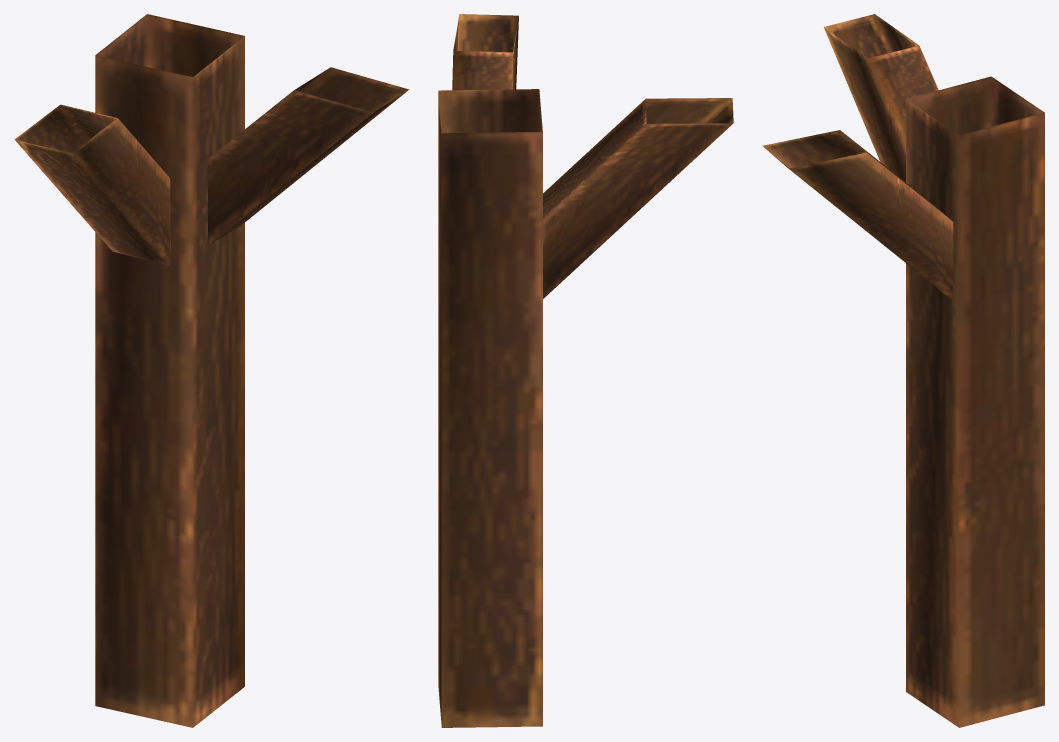
File: SWORDLIGHT20_JAILPLATSUPPORT48.fbx
The picture shows the model from 3 angles, left to right: view 1: azimuth 30°, elevation 25°; view 2: azimuth 150°, elevation 25°; view 3: azimuth 270°, elevation 25°; orthographic projection. The views are drawn at different scales.
Parts seen in each view (by area): view 1: SWORDLIGHT20_JAILPLATSUPPORT48; view 2: SWORDLIGHT20_JAILPLATSUPPORT48; view 3: SWORDLIGHT20_JAILPLATSUPPORT48.
Boxes of the visible parts, x1,y1,x2,y2 form: SWORDLIGHT20_JAILPLATSUPPORT48: (14,14,409,727); SWORDLIGHT20_JAILPLATSUPPORT48: (438,14,733,727); SWORDLIGHT20_JAILPLATSUPPORT48: (762,14,1044,727).
Bounding box in the file's own units: 14504 × 25940 × 11211.
Materials: 1 (1 with a texture image).
